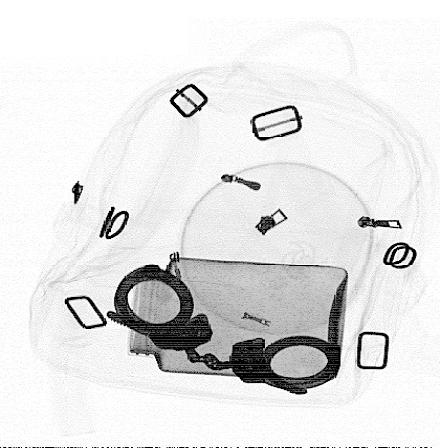HandCuffs: (105, 265, 344, 396)
